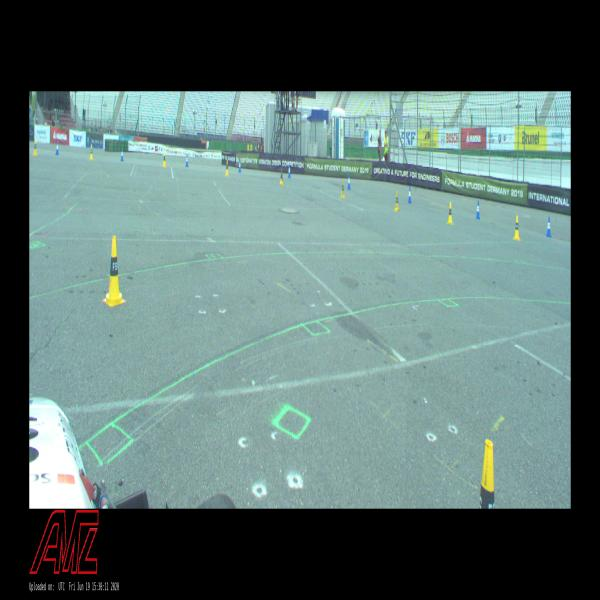blue_cone: (546, 216, 551, 236), (476, 201, 480, 219), (347, 174, 351, 189), (120, 148, 124, 161), (408, 187, 411, 203), (288, 164, 291, 178), (56, 142, 59, 154), (186, 154, 188, 167), (239, 161, 241, 172)
yellow_cone: (104, 236, 125, 307), (479, 440, 495, 508), (512, 215, 521, 241), (447, 202, 453, 224), (394, 191, 399, 211), (279, 168, 284, 186), (33, 139, 38, 156), (89, 144, 94, 161), (162, 151, 167, 168), (225, 160, 229, 177), (341, 181, 345, 198)
